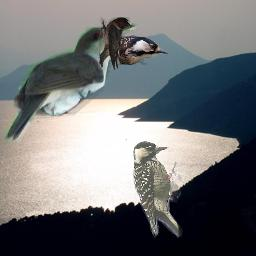Cuckoo: (3, 23, 138, 144)
Swallow: (98, 17, 130, 70)
Woodpecker: (133, 141, 183, 238), (118, 34, 168, 65)
